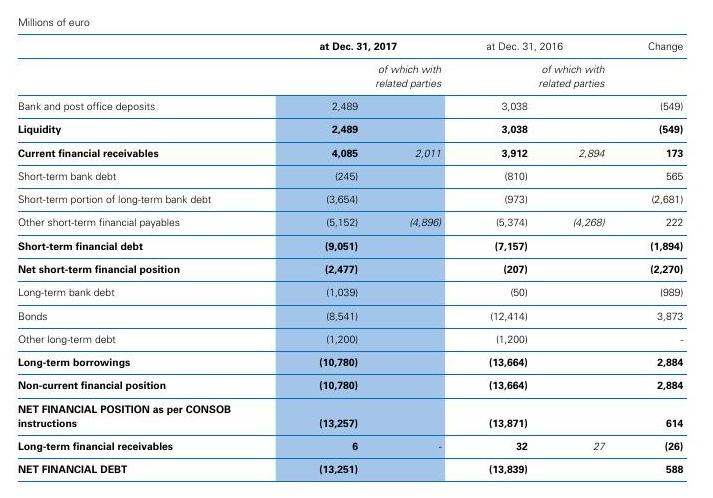table: (0, 0, 713, 498)
